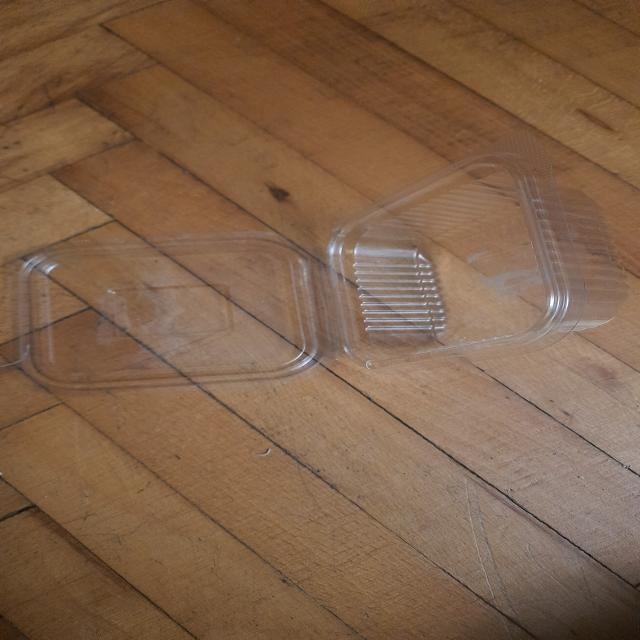plastic: (0, 114, 640, 386)
